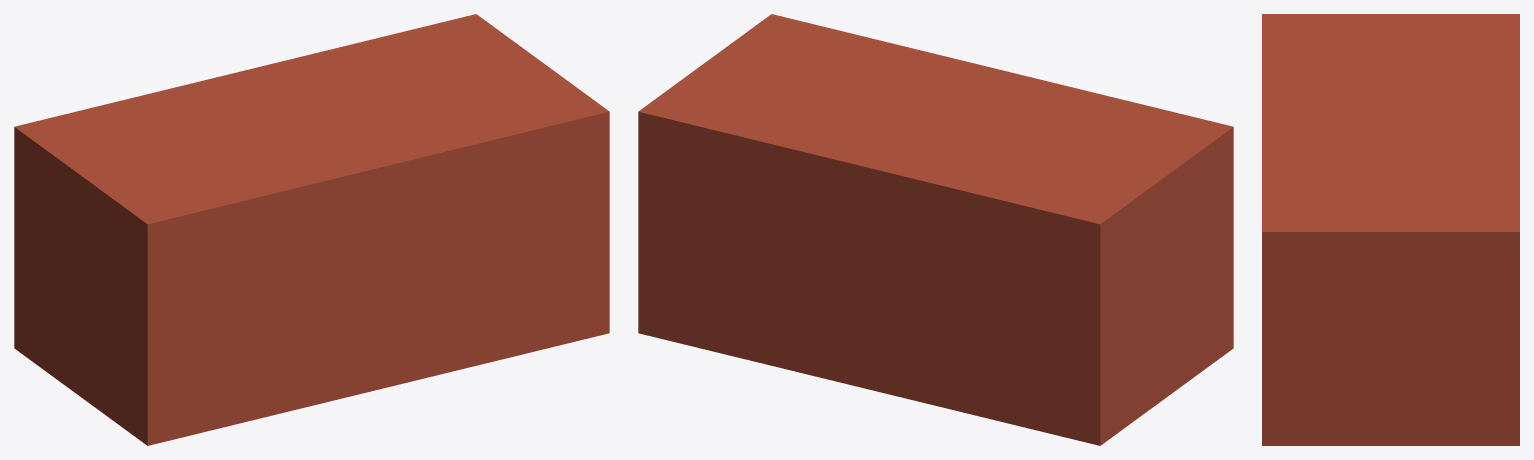
The model's file is brick.glb.
3 renders of one model, left to right at view 1: azimuth 30°, elevation 25°; view 2: azimuth 150°, elevation 25°; view 3: azimuth 270°, elevation 25°, orthographic. The views are drawn at different scales.
Visible parts, largest first — view 1: brick; view 2: brick; view 3: brick.
Part boxes in pixels (x1,y1,x2,y2): brick: (14,14,609,445); brick: (638,14,1233,445); brick: (1262,14,1519,445).
Size of the model in its own units: 0.12 by 0.055 by 0.06.
Materials: 1 (1 with a texture image).
